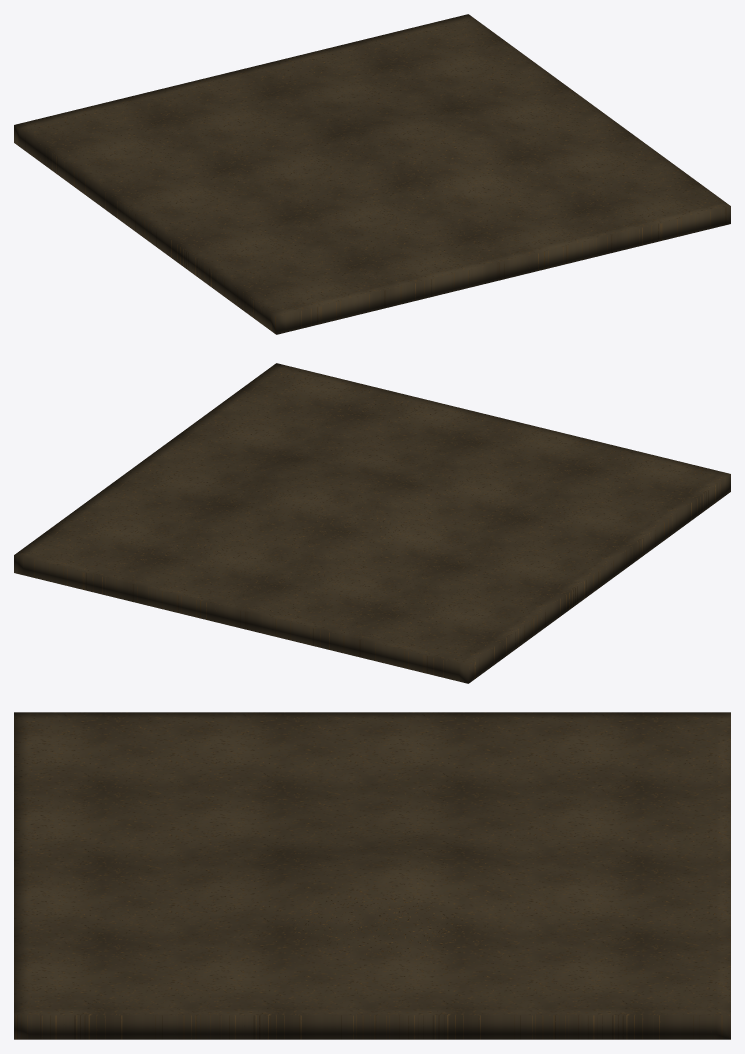
Rendered from GF2_Ground_MossBank_32.fbx.
The picture shows the model from 3 angles, top to bottom: view 1: azimuth 30°, elevation 25°; view 2: azimuth 150°, elevation 25°; view 3: azimuth 270°, elevation 25°; orthographic projection. The views are drawn at different scales.
Visible parts, largest first — view 1: GF2_Ground_MossBank_32.001; view 2: GF2_Ground_MossBank_32.001; view 3: GF2_Ground_MossBank_32.001.
Part boxes in pixels (x1,y1,x2,y2): GF2_Ground_MossBank_32.001: (14,14,730,334); GF2_Ground_MossBank_32.001: (14,363,730,683); GF2_Ground_MossBank_32.001: (14,712,730,1039).
Bounding box in the file's own units: 32 × 2.1 × 32.
Materials: 1 (1 with a texture image).
